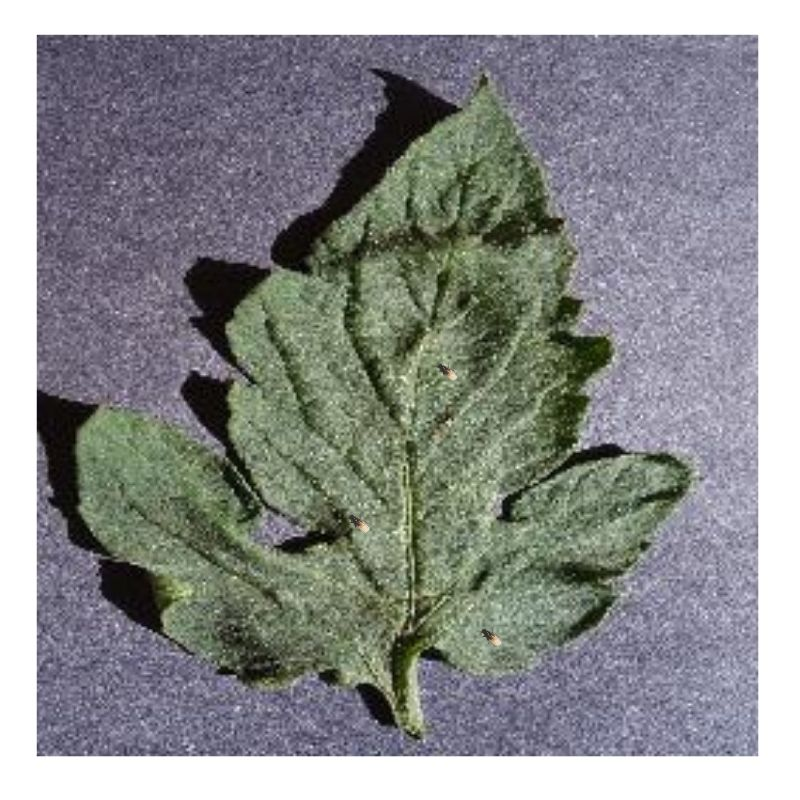liriomyza: (434, 360, 460, 382), (347, 512, 370, 535), (479, 627, 504, 648)
